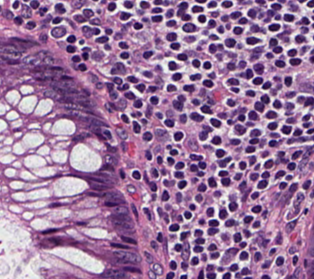nucleus: (113, 251, 140, 262), (10, 38, 37, 47), (1, 46, 21, 57), (113, 219, 132, 229), (88, 116, 106, 126), (121, 236, 136, 244), (91, 182, 107, 189), (114, 206, 128, 214), (104, 155, 116, 164), (115, 214, 130, 221), (117, 128, 127, 138), (190, 113, 202, 121), (246, 37, 259, 44), (144, 251, 152, 262), (111, 243, 128, 248), (254, 64, 263, 73), (173, 100, 182, 109), (116, 63, 124, 73), (201, 105, 211, 113), (210, 118, 220, 126), (235, 125, 245, 133), (155, 128, 165, 136), (257, 180, 267, 188), (131, 204, 137, 217), (133, 121, 140, 132), (102, 164, 113, 171), (143, 208, 150, 219), (225, 39, 234, 47), (255, 102, 263, 111), (190, 154, 202, 160), (132, 170, 140, 179), (229, 202, 237, 211), (166, 33, 176, 40), (266, 111, 276, 118), (250, 129, 260, 136), (106, 144, 116, 151), (96, 36, 107, 42), (275, 233, 281, 244), (261, 95, 269, 103), (150, 96, 158, 104), (249, 111, 257, 119), (103, 130, 111, 138), (143, 132, 151, 140), (174, 132, 182, 140), (212, 136, 220, 144), (216, 149, 224, 157), (264, 160, 272, 168), (208, 178, 216, 186), (233, 233, 241, 241), (143, 51, 152, 58), (275, 60, 284, 67), (172, 73, 181, 80), (253, 77, 262, 84), (125, 92, 134, 99), (118, 99, 125, 108), (121, 114, 128, 123), (174, 171, 183, 178), (219, 209, 226, 218), (225, 219, 234, 226), (169, 224, 178, 231), (208, 227, 217, 234), (177, 54, 187, 60), (190, 74, 200, 80), (127, 76, 137, 82), (228, 78, 238, 84), (118, 84, 128, 90), (183, 85, 193, 91), (105, 201, 117, 206), (67, 35, 75, 42), (270, 38, 277, 46), (209, 44, 216, 52), (273, 46, 281, 53), (192, 59, 199, 67), (262, 82, 270, 89), (106, 83, 113, 91), (136, 84, 144, 91), (110, 91, 117, 99), (134, 99, 141, 107), (273, 100, 280, 108), (165, 119, 173, 126), (268, 122, 276, 129), (199, 131, 206, 139), (221, 178, 229, 185), (178, 181, 186, 188), (127, 185, 135, 192), (252, 205, 260, 212), (42, 229, 56, 233), (240, 251, 247, 259), (276, 257, 283, 265), (185, 36, 194, 42), (66, 46, 75, 52), (246, 69, 252, 78), (143, 71, 152, 77), (203, 80, 212, 86), (180, 114, 186, 123), (151, 168, 157, 177), (275, 171, 284, 177), (150, 182, 156, 191), (162, 191, 168, 200), (209, 220, 218, 226), (195, 238, 204, 244), (203, 61, 210, 68), (169, 62, 176, 69), (114, 77, 121, 84), (227, 99, 234, 106), (190, 164, 197, 171), (198, 184, 205, 191), (184, 211, 191, 218), (180, 232, 187, 239), (191, 257, 198, 264), (119, 42, 127, 48), (171, 43, 179, 49), (120, 52, 128, 58), (6, 59, 18, 63), (167, 85, 175, 91), (246, 90, 254, 96), (250, 138, 258, 144), (246, 146, 254, 152), (239, 161, 245, 169), (250, 174, 258, 180), (244, 216, 252, 222), (194, 230, 202, 236), (151, 241, 157, 249), (208, 244, 216, 250), (194, 246, 202, 252), (170, 261, 176, 269), (40, 34, 46, 41), (82, 52, 88, 59), (227, 63, 234, 69), (79, 64, 86, 70), (111, 68, 118, 74), (178, 95, 184, 102), (269, 140, 276, 146), (167, 157, 173, 164), (219, 160, 226, 166), (199, 161, 205, 168), (176, 162, 183, 168), (262, 172, 269, 178), (234, 173, 241, 179), (251, 192, 258, 198), (196, 194, 202, 201), (207, 208, 213, 215), (175, 244, 181, 251), (211, 252, 218, 258), (72, 56, 80, 61), (146, 106, 150, 116), (231, 139, 239, 144), (146, 151, 151, 159), (250, 156, 255, 164), (219, 171, 227, 176), (176, 193, 181, 201), (157, 233, 162, 241), (255, 252, 260, 260), (253, 48, 262, 52), (239, 61, 245, 67), (156, 112, 162, 118), (238, 114, 244, 120), (253, 221, 259, 227), (250, 55, 257, 60), (149, 86, 156, 91), (231, 87, 238, 92), (192, 99, 199, 104), (204, 126, 211, 131), (170, 149, 177, 154), (240, 182, 245, 189), (218, 113, 226, 117), (270, 133, 278, 137), (120, 170, 124, 178), (266, 53, 272, 58), (208, 73, 214, 78), (214, 191, 220, 196), (210, 35, 217, 39), (157, 156, 161, 163), (182, 262, 186, 269), (50, 203, 59, 206), (79, 39, 84, 44), (105, 44, 110, 49), (225, 157, 230, 162), (190, 204, 195, 209), (240, 242, 245, 247), (270, 249, 275, 254), (115, 34, 121, 38), (262, 152, 268, 156), (278, 152, 284, 156), (245, 230, 249, 236), (158, 208, 161, 215), (165, 215, 168, 222), (218, 44, 222, 49), (83, 47, 88, 51), (97, 83, 102, 87), (255, 164, 259, 169), (199, 219, 204, 223), (202, 255, 206, 260), (167, 111, 171, 115), (142, 119, 146, 123), (228, 120, 232, 124), (77, 222, 85, 224), (247, 122, 252, 125), (164, 180, 167, 185), (178, 215, 181, 220)
